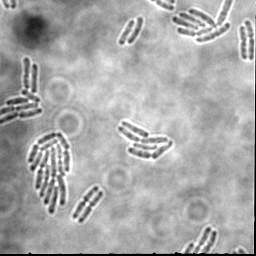Dividing: (70, 184, 100, 220), (77, 189, 104, 224), (192, 226, 212, 254), (244, 19, 255, 61), (201, 230, 218, 254), (238, 25, 249, 60)
Microcolony: (27, 130, 72, 215), (0, 57, 42, 127), (172, 1, 234, 43), (117, 120, 174, 160)
Rod: (127, 15, 144, 45), (117, 19, 135, 46)
